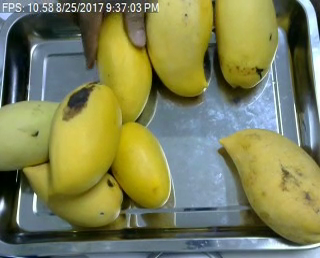Mango: (216, 118, 320, 253), (46, 78, 123, 198), (15, 160, 127, 231), (89, 10, 156, 123), (102, 114, 177, 212), (148, 0, 214, 103), (212, 0, 278, 90), (0, 97, 67, 173)
